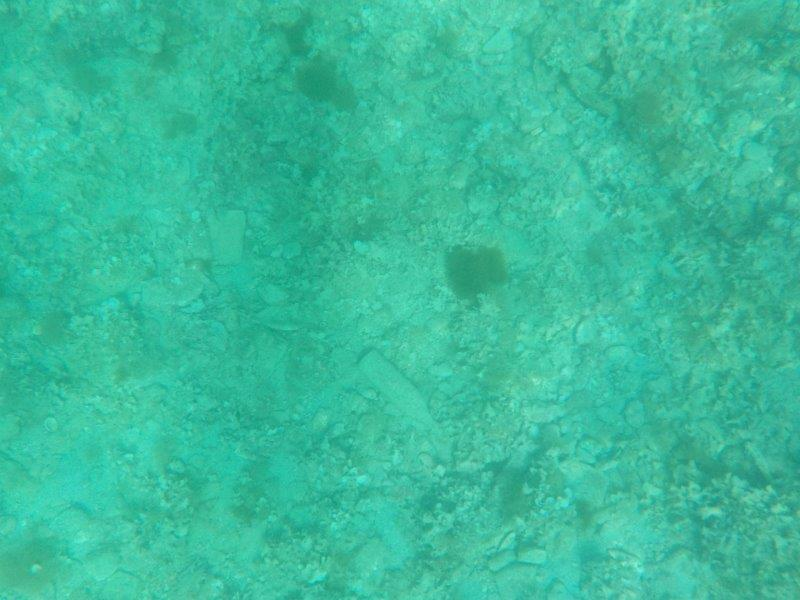bottle: (355, 347, 450, 447)
